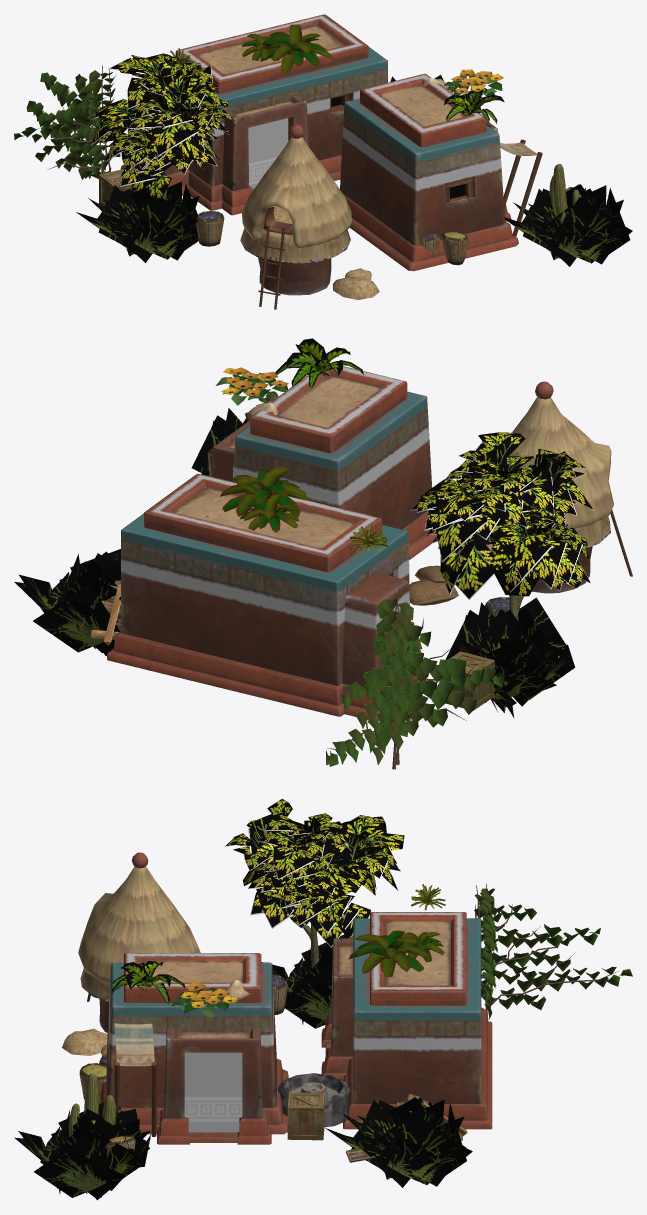
Rendered from 106-villagecenter.glb.
3 renders of one model, top to bottom at view 1: azimuth 30°, elevation 25°; view 2: azimuth 150°, elevation 25°; view 3: azimuth 270°, elevation 25°, orthographic. The views are drawn at different scales.
Size of the model in its own units: 11.19 by 5.07 by 12.82.
20 materials, 19 textured.
